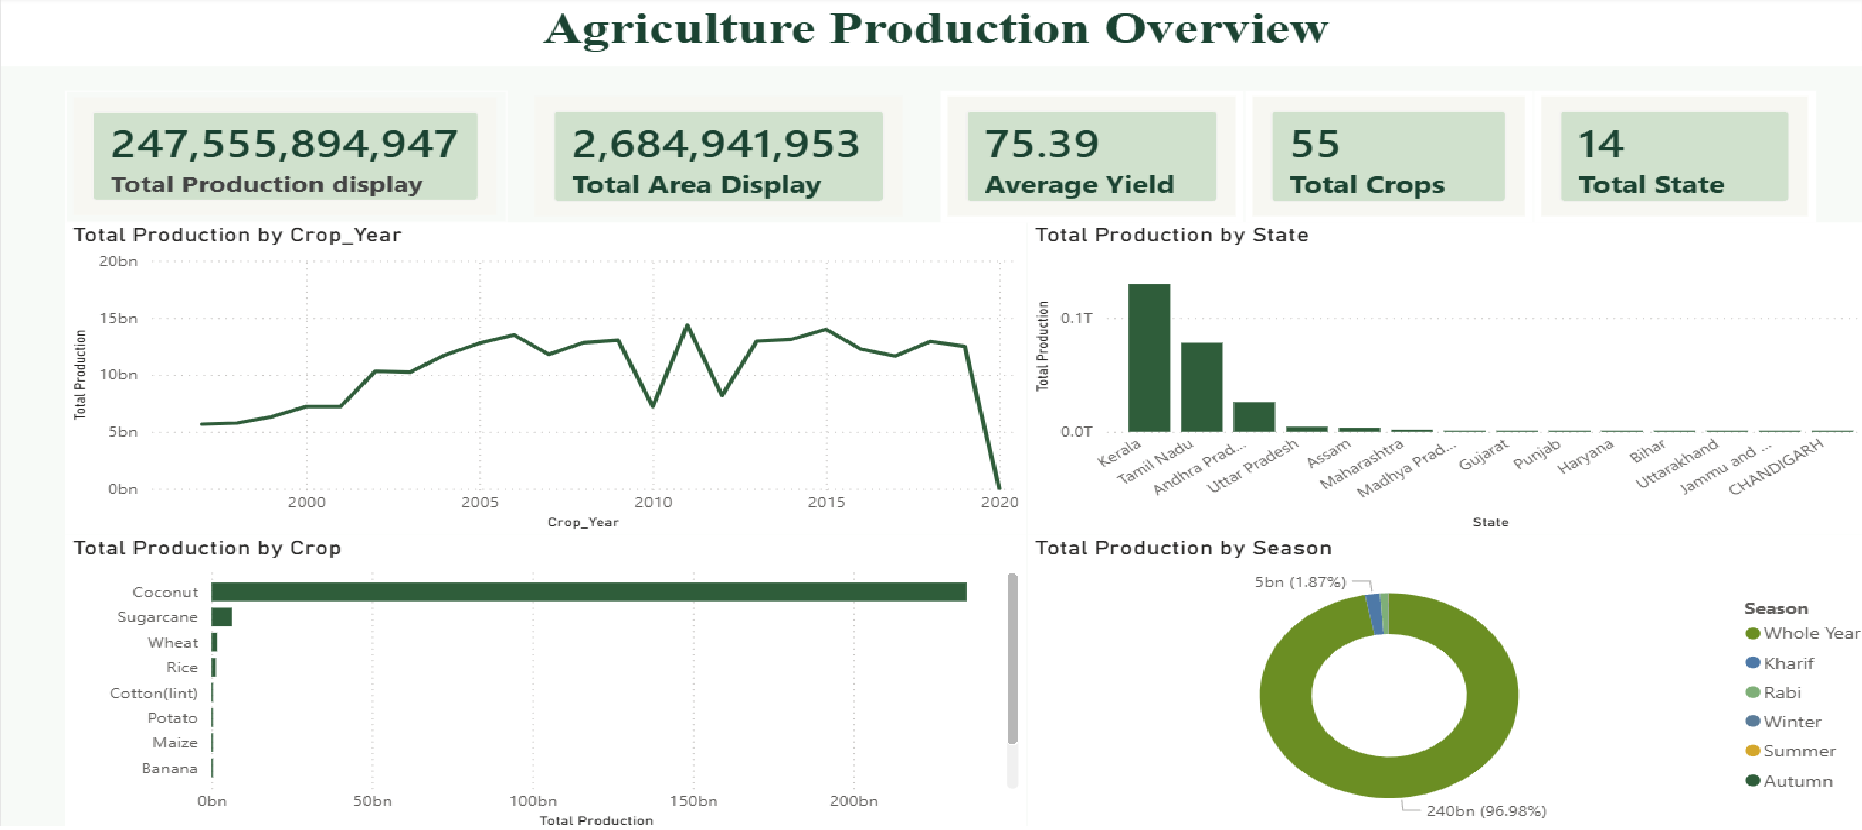

The page's visual inventory and layout, read from the dashboard file:
{"tool":"powerbi","page":{"name":"Agriculture Production Overview","canvas":[1280,720],"ordinal":0},"visuals":[{"type":"cardVisual","fields":{"Data":["Sheet1.Total Production display"]},"box":[44,80.7,300.8,113.7],"z":0},{"type":"cardVisual","fields":{"Data":["Sheet1.Total Area Display"]},"box":[358.3,80.7,260.5,113.7],"z":1000},{"type":"cardVisual","fields":{"Data":["Sheet1.Average Yield"]},"box":[639.5,80.7,206.7,113.7],"z":2000},{"type":"cardVisual","fields":{"Data":["Sheet1.Total Crops"]},"box":[847.4,80.7,195.7,113.7],"z":3000},{"type":"cardVisual","fields":{"Data":["Sheet1.Total State"]},"box":[1043.1,80.7,192,113.7],"z":4000},{"type":"lineChart","fields":{"Category":["Sheet1.Crop_Year"],"Y":["Sheet1.Total Production"]},"box":[44,194.4,654.2,269],"z":5000},{"type":"clusteredColumnChart","fields":{"Category":["Sheet1.State"],"Y":["Sheet1.Total Production"]},"box":[698.2,194.4,582.1,269],"z":6000},{"type":"clusteredBarChart","fields":{"Category":["Sheet1.Crop"],"Y":["Sheet1.Total Production"]},"box":[44,463.5,654.2,256.8],"z":7000},{"type":"donutChart","fields":{"Category":["Sheet1.Season"],"Y":["Sheet1.Total Production"]},"box":[698.2,463.5,582.1,256.8],"z":8000},{"type":"textbox","box":[0,0,1280.3,59.9],"z":9000}]}

Visuals, with their boxes on the page's 1280x720 design canvas (x1, y1, x2, y2). These are canvas units, not pixel positions in the 1862x830 screenshot, which may show the page scaled, cropped or inside an application window:
cardVisual - Sheet1.Total Production display: <region>44, 81, 345, 194</region>
cardVisual - Sheet1.Total Area Display: <region>358, 81, 619, 194</region>
cardVisual - Sheet1.Average Yield: <region>640, 81, 846, 194</region>
cardVisual - Sheet1.Total Crops: <region>847, 81, 1043, 194</region>
cardVisual - Sheet1.Total State: <region>1043, 81, 1235, 194</region>
lineChart - Sheet1.Crop_Year x Sheet1.Total Production: <region>44, 194, 698, 463</region>
clusteredColumnChart - Sheet1.State x Sheet1.Total Production: <region>698, 194, 1280, 463</region>
clusteredBarChart - Sheet1.Crop x Sheet1.Total Production: <region>44, 464, 698, 720</region>
donutChart - Sheet1.Season x Sheet1.Total Production: <region>698, 464, 1280, 720</region>
textbox: <region>0, 0, 1280, 60</region>
